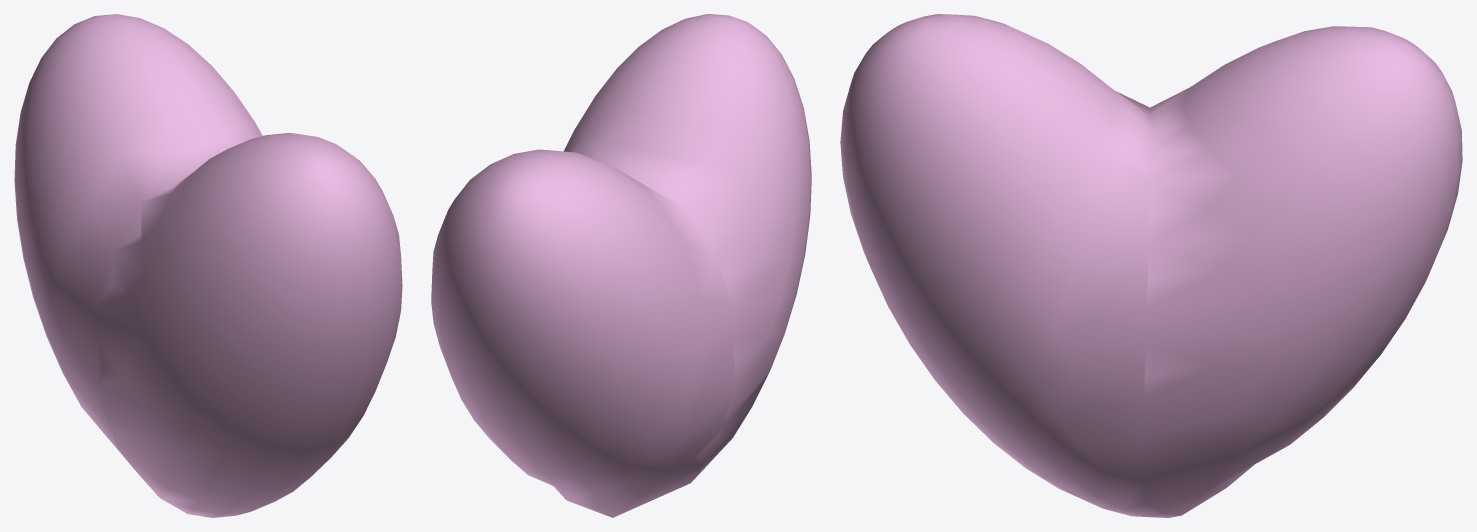
The model's file is Heart.fbx.
The picture shows the model from 3 angles, left to right: view 1: azimuth 30°, elevation 25°; view 2: azimuth 150°, elevation 25°; view 3: azimuth 270°, elevation 25°; orthographic projection. The views are drawn at different scales.
Visible parts, largest first — view 1: pSphere3; view 2: pSphere3; view 3: pSphere3.
Part boxes in pixels (bbox=[...]): pSphere3: bbox=[14, 14, 402, 517]; pSphere3: bbox=[431, 14, 811, 517]; pSphere3: bbox=[840, 14, 1462, 517].
Bounding box in the file's own units: 1.43 × 2.47 × 2.86.
